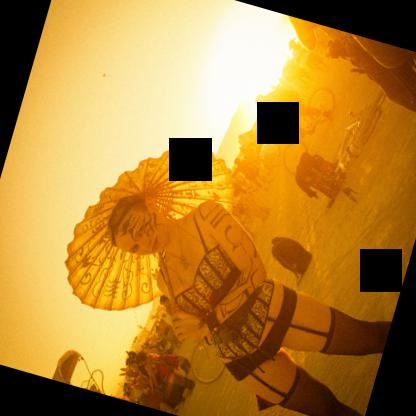backpack: (270, 235, 313, 287), (304, 159, 347, 202), (151, 353, 180, 371), (150, 337, 174, 354)
